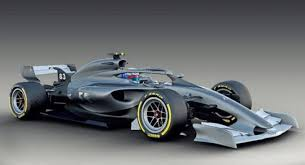FormulaOneCar: (7, 55, 301, 153)
